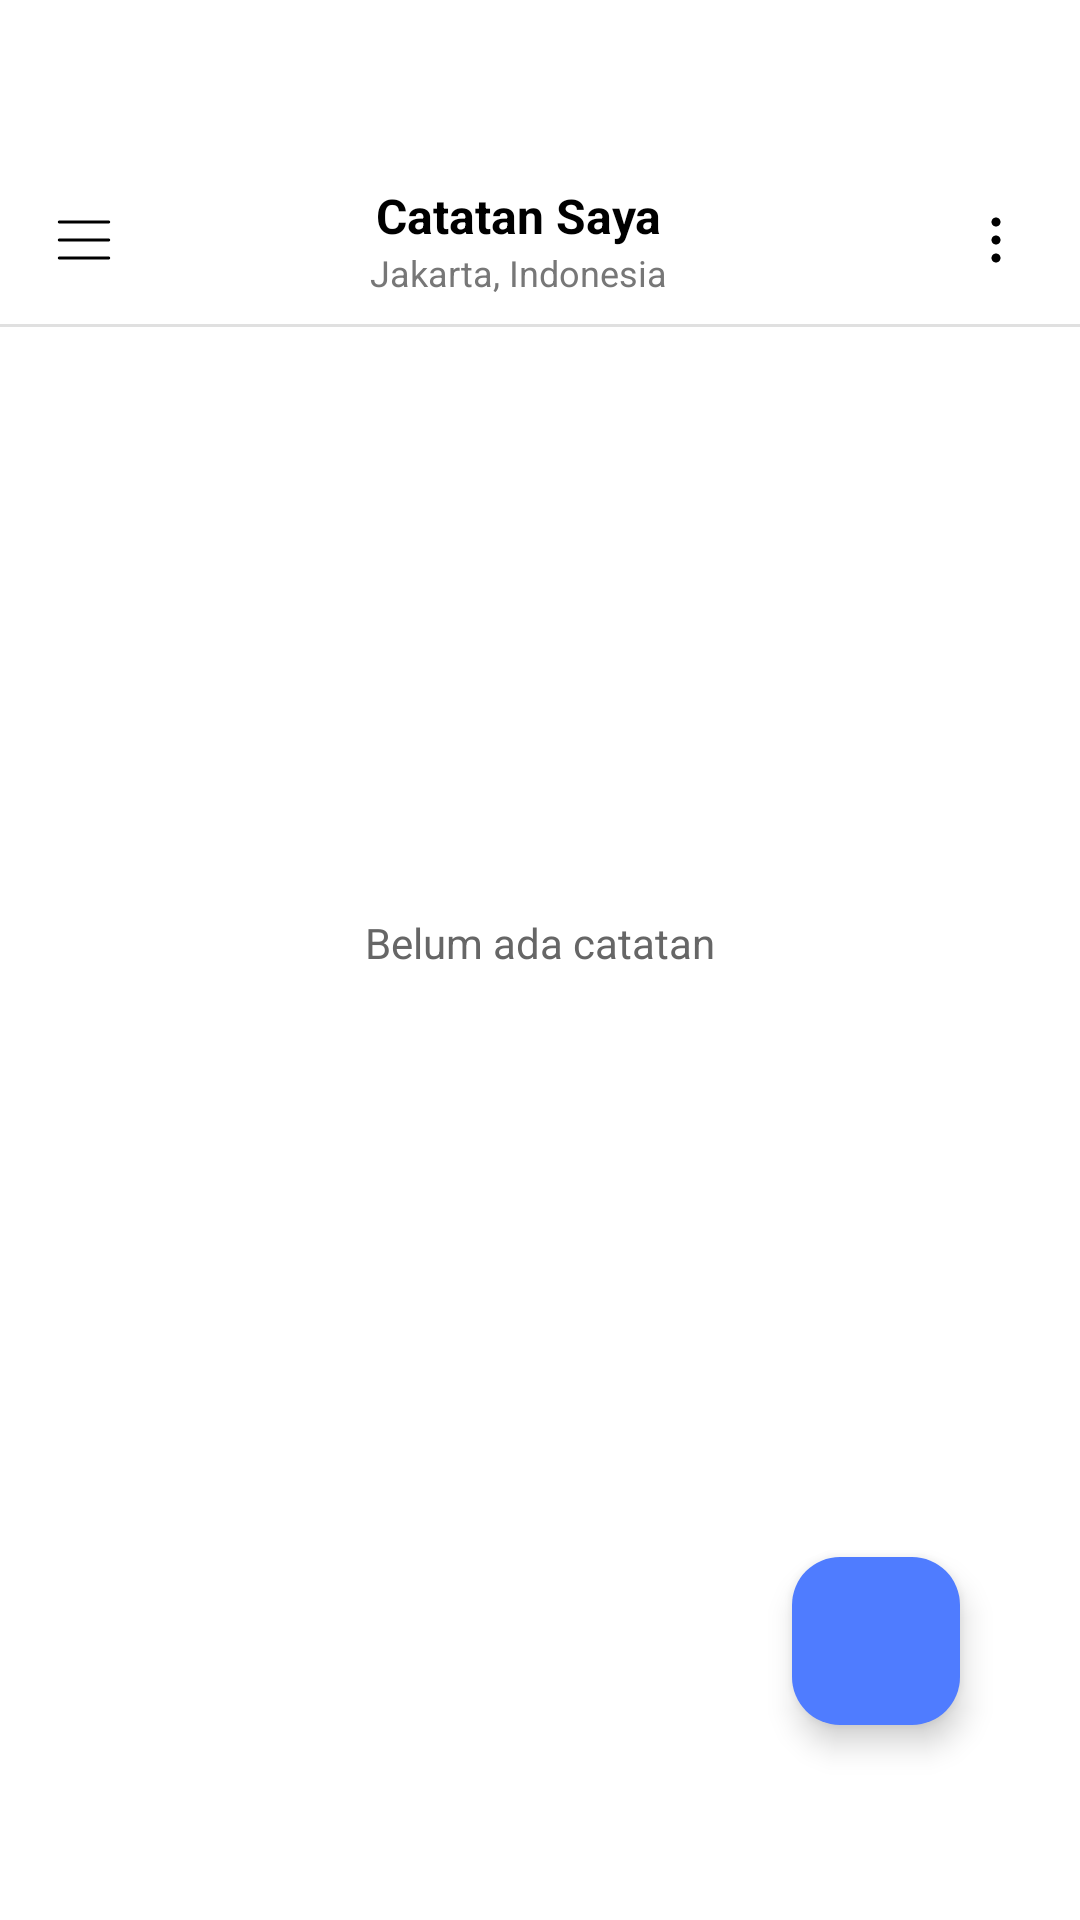

Icons on this 1080*1920 Android screen, each with the point to tap as (x=x, y=y):
Lainnya: (x=996, y=240)
Menu: (x=84, y=240)
